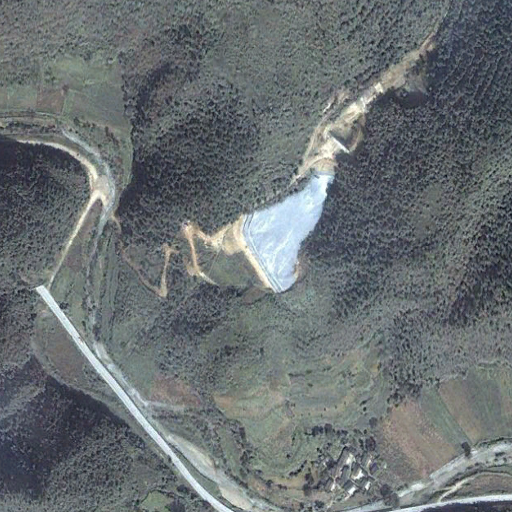tp: (233, 169, 334, 293)
